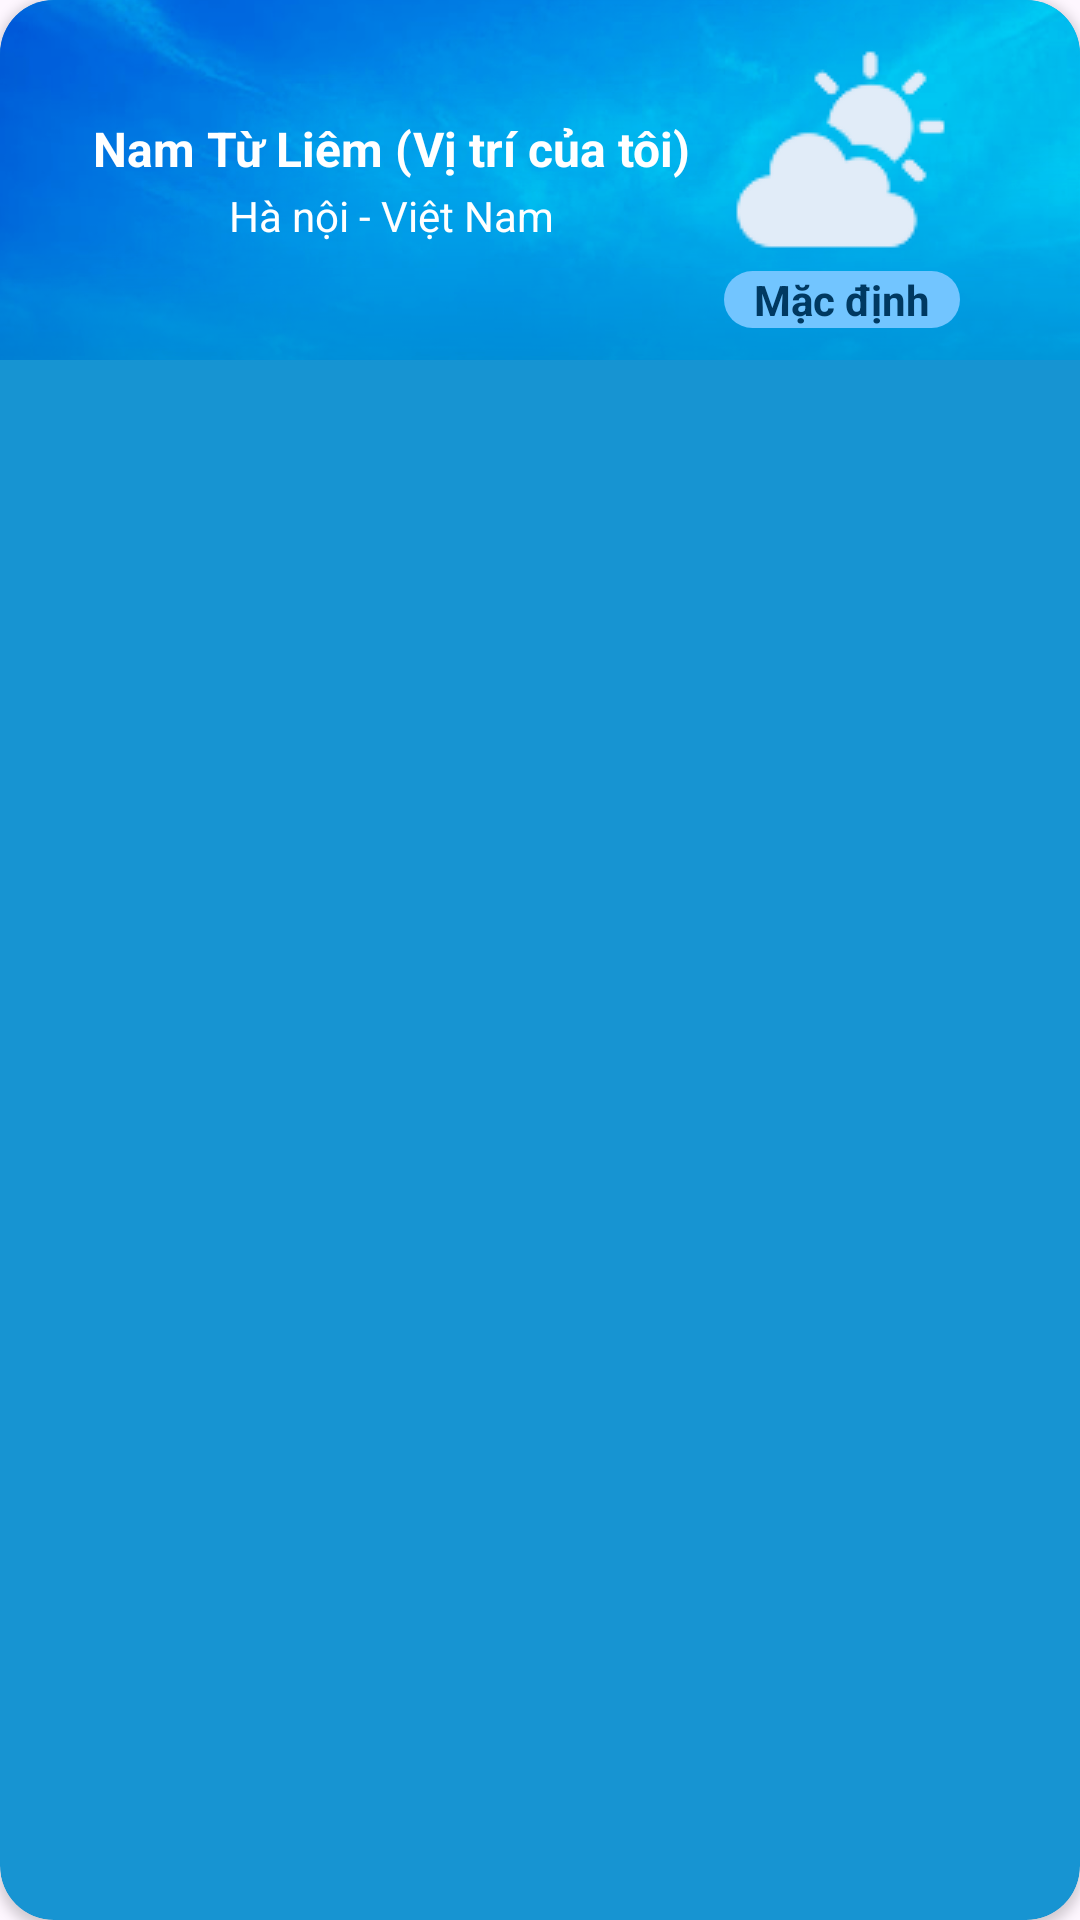

Where to tap for icons on this 1080w x 1920h app screen, as (x=x, y=y):
cloud: (x=842, y=151)
